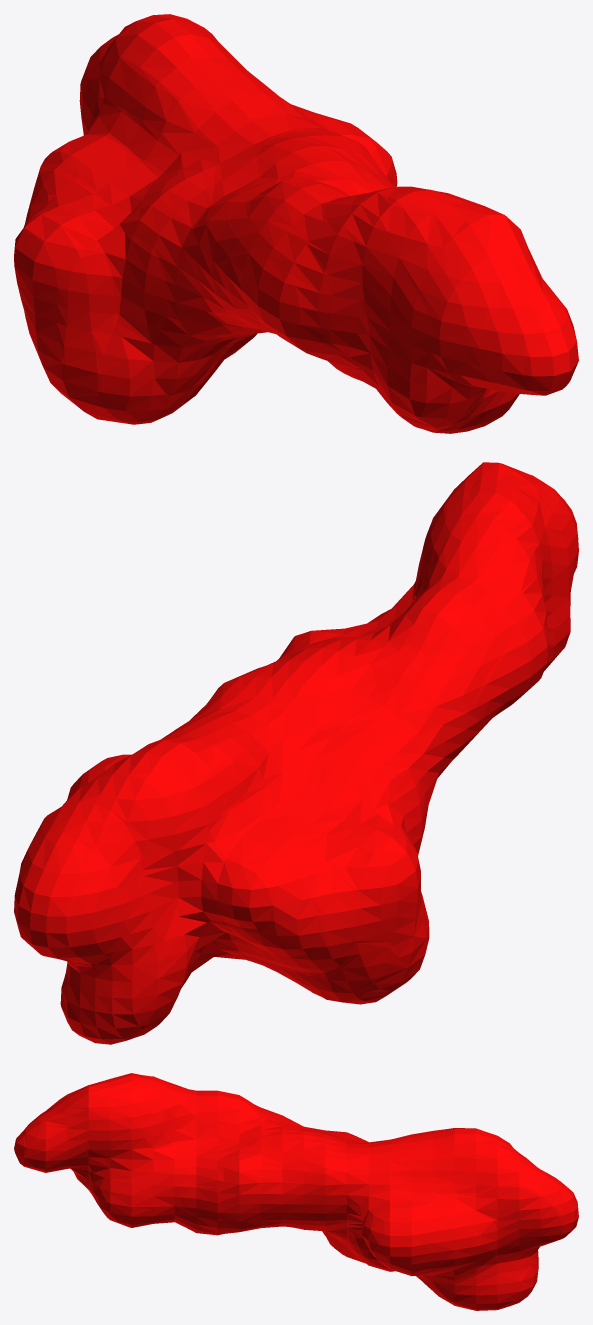
Rendered from hycA_coarse.dae.
3 views of the same model, one above another, from view 1: azimuth 30°, elevation 25°; view 2: azimuth 150°, elevation 25°; view 3: azimuth 270°, elevation 25° (orthographic). The views are drawn at different scales.
Visible parts, largest first — view 1: hycA; view 2: hycA; view 3: hycA.
Boxes of the visible parts, x1,y1,x2,y2 form: hycA: [14, 14, 578, 433]; hycA: [14, 462, 578, 1044]; hycA: [14, 1073, 578, 1310].
Bounding box in the file's own units: 37.74 × 37.11 × 91.36.
